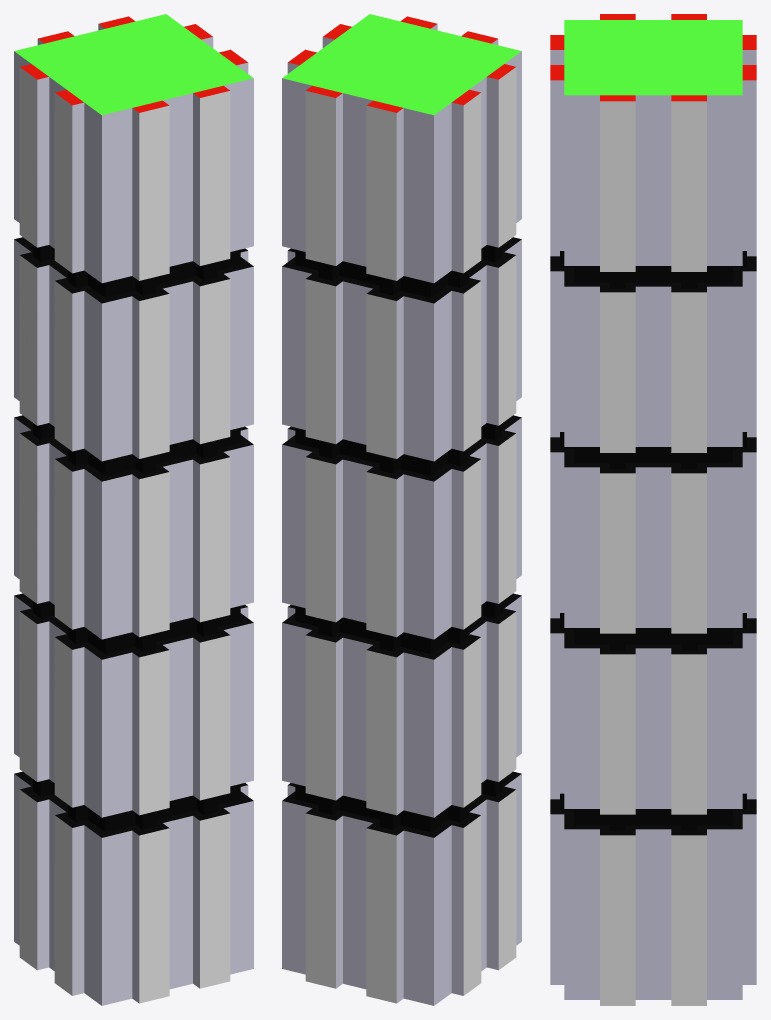
File: towerv2.glb
3 renders of one model, left to right at view 1: azimuth 30°, elevation 25°; view 2: azimuth 150°, elevation 25°; view 3: azimuth 270°, elevation 25°, orthographic.
Parts seen in each view (by area): view 1: Cube; view 2: Cube; view 3: Cube.
Boxes of the visible parts, x1=… form: Cube: x1=14, y1=14, x2=253, y2=1005; Cube: x1=282, y1=14, x2=521, y2=1005; Cube: x1=550, y1=14, x2=756, y2=1005.
Bounding box in the file's own units: 2.31 × 11.19 × 2.31.
